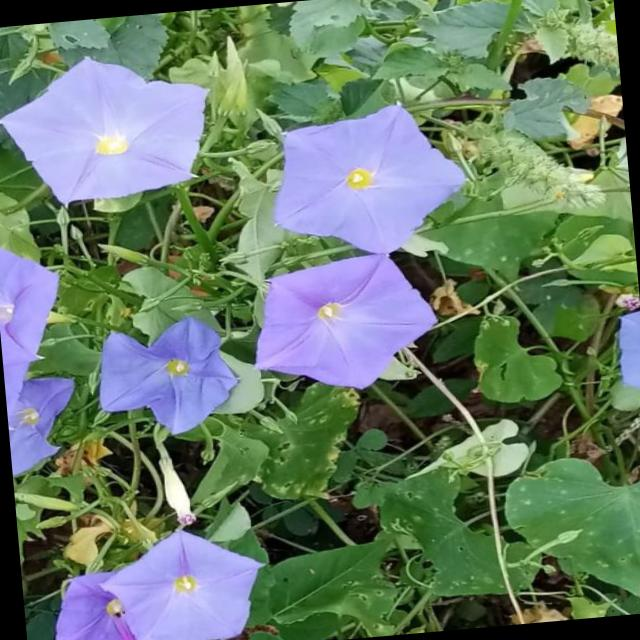ipomoea: (0, 43, 223, 213), (260, 95, 476, 266), (244, 246, 446, 402), (94, 519, 276, 640), (89, 310, 248, 444)
